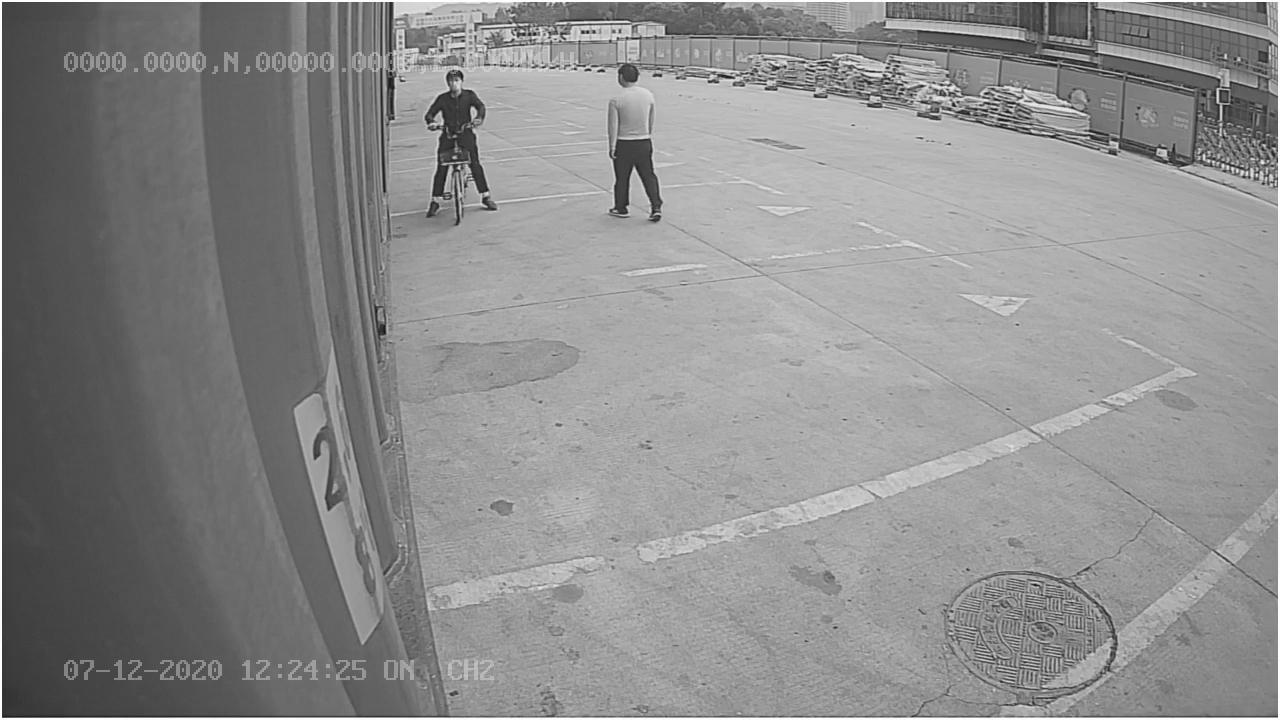person: (599, 58, 670, 221)
